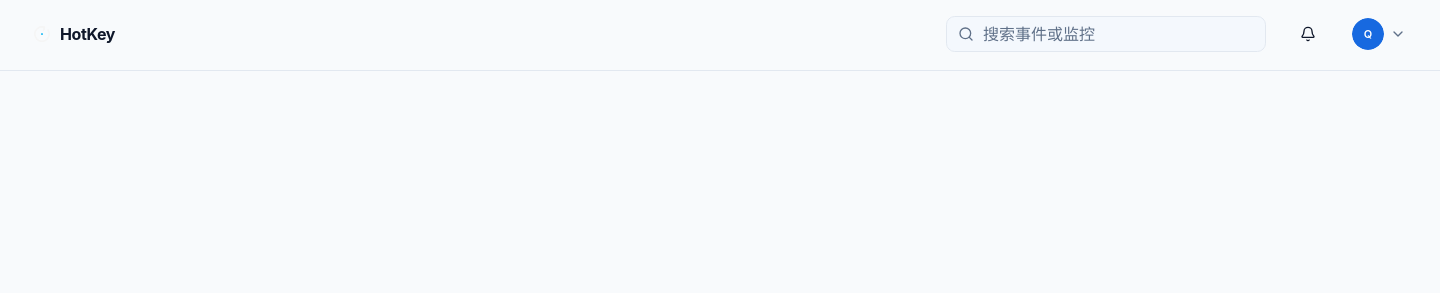
Test: TopNav › keeps operational pages in the account menu for administrators
What coordinates should you click on to do the following:
click the button named "账户菜单"
I would click on:
 (1379, 34)
Its box is [1350, 16, 1408, 52].
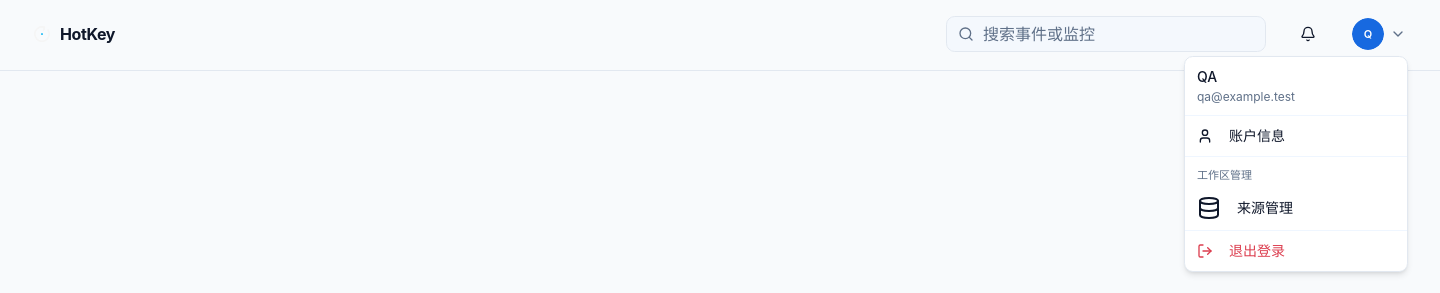
Now the menu item "来源管理" is shown, box [1197, 196, 1293, 220]
